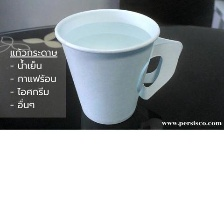paper_cup: (50, 4, 186, 127)
